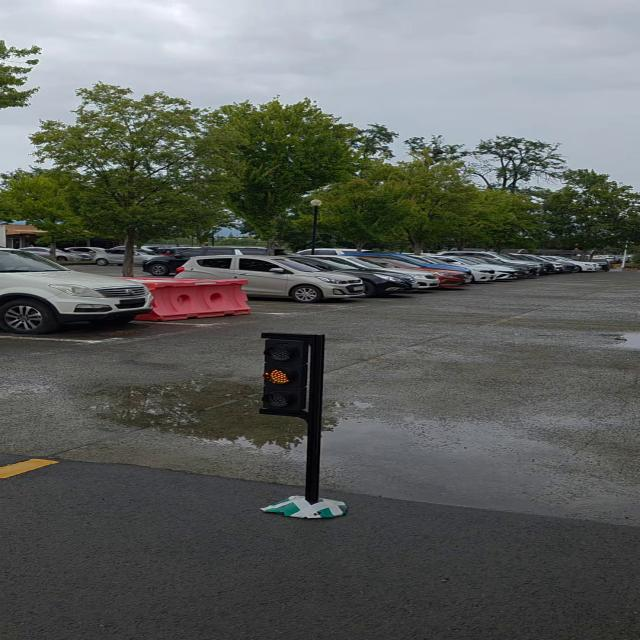yellow: (264, 330, 311, 418)
